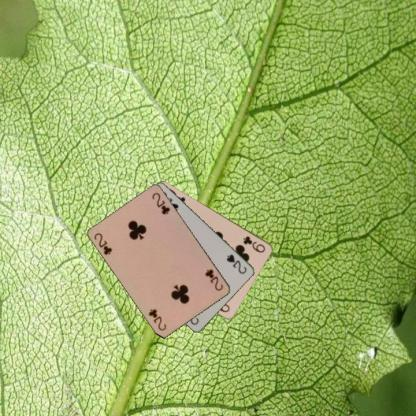2c: (92, 230, 114, 256), (203, 266, 224, 292)
2s: (224, 252, 248, 275)
9c: (241, 234, 266, 254)
